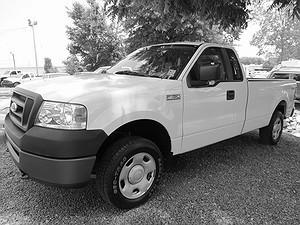car: (5, 43, 296, 211)
